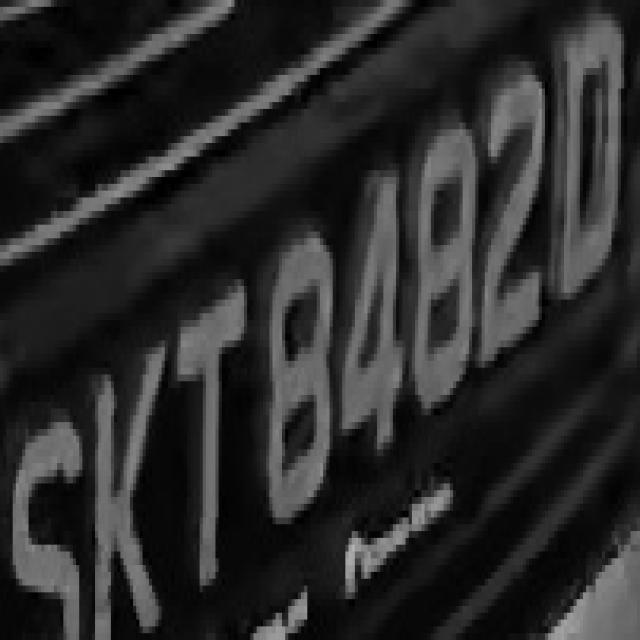2: (478, 54, 552, 374)
4: (336, 136, 409, 477)
8: (257, 211, 339, 531), (408, 122, 484, 429)
D: (561, 7, 627, 293)
K: (82, 327, 165, 640)
T: (171, 286, 250, 606)
